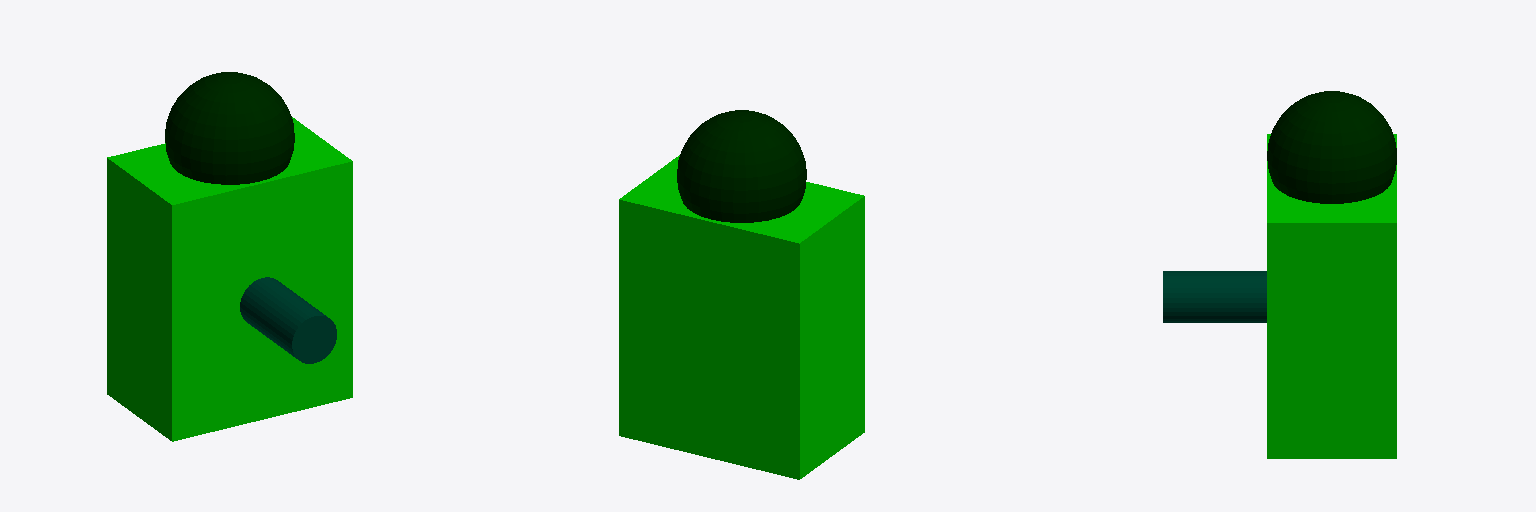
The model's file is playerChar.obj.
The picture shows the model from 3 angles: view 1: azimuth 30°, elevation 25°; view 2: azimuth 150°, elevation 25°; view 3: azimuth 270°, elevation 25°; orthographic projection.
Parts seen in each view (by area): view 1: Cube, Sphere, Cylinder; view 2: Cube, Sphere; view 3: Cube, Sphere, Cylinder.
Boxes of the visible parts, x1,y1,x2,y2 form: Cube: [107, 117, 352, 441]; Sphere: [165, 72, 294, 184]; Cylinder: [240, 277, 336, 363]; Cube: [619, 155, 864, 479]; Sphere: [677, 110, 806, 222]; Cube: [1267, 134, 1396, 458]; Sphere: [1267, 91, 1396, 203]; Cylinder: [1163, 271, 1266, 322].
Bounding box in the file's own units: 1.6 × 2.69 × 1.8.